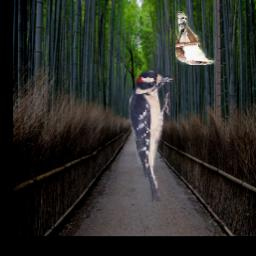Cuckoo: (175, 12, 215, 66)
Woodpecker: (128, 68, 174, 202)
